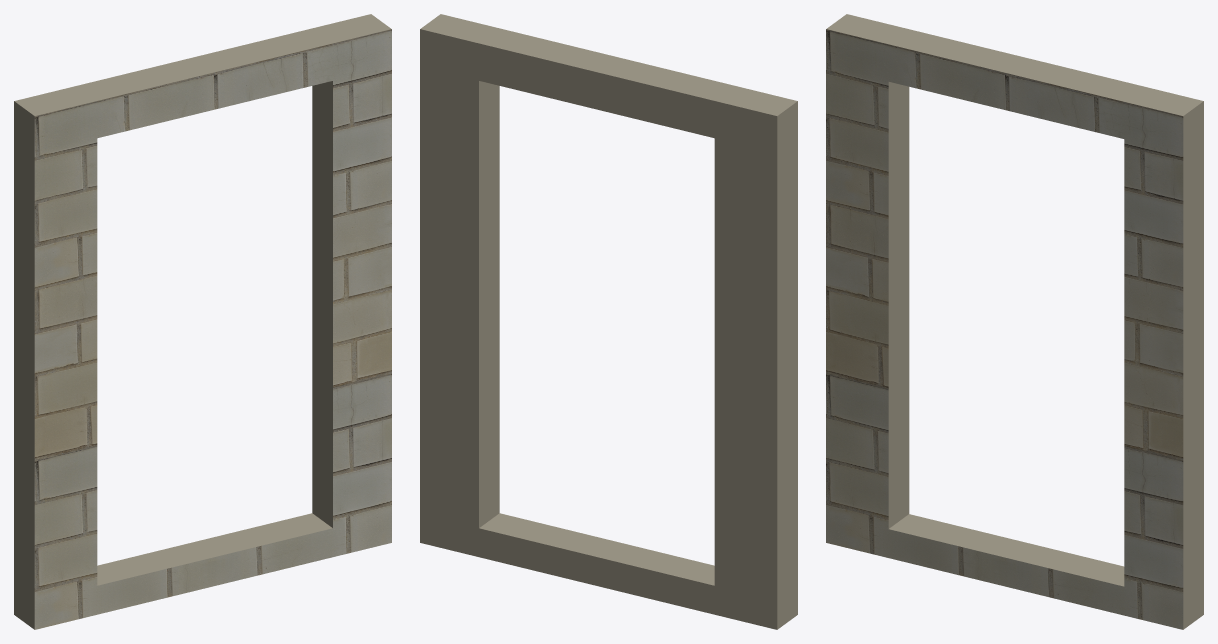
3 views of the same model, side by side, from view 1: azimuth 30°, elevation 25°; view 2: azimuth 150°, elevation 25°; view 3: azimuth 330°, elevation 25° (orthographic).
Parts seen in each view (by area): view 1: wall; view 2: wall; view 3: wall.
Part boxes in pixels (<box>): wall: <box>14,14,391,629</box>; wall: <box>420,14,797,629</box>; wall: <box>826,14,1203,629</box>.
Size of the model in its own units: 20 by 27.5 by 2.
